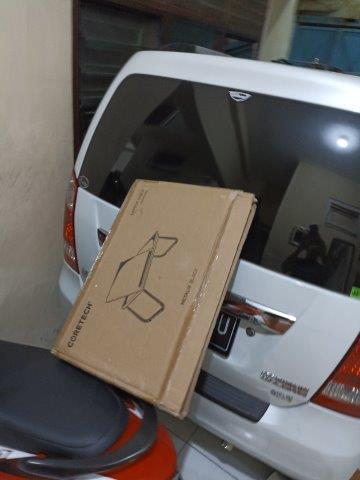kardus: (55, 182, 253, 416)
